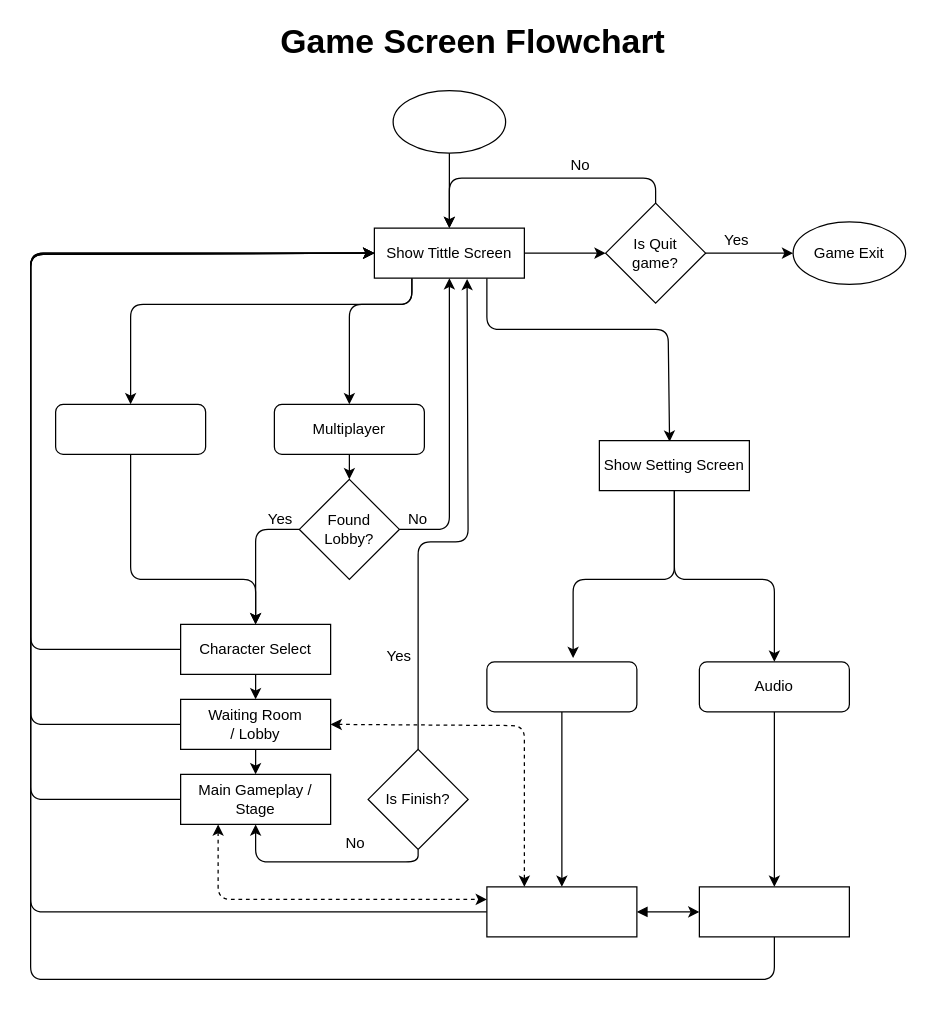
This 928x1011 diagram has some shape labels left out. Here are the shapes that lost their labels. From the top down, the box of each, then its label:
(392, 89, 506, 153): Start
(54, 403, 206, 454): Single player
(486, 661, 637, 712): Control
(486, 886, 637, 937): Show Control Setting Screen
(698, 886, 849, 937): Show Audio Setting Screen
